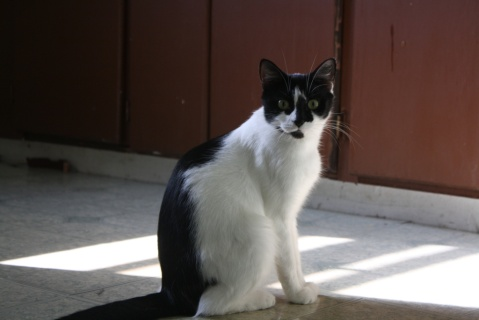Cat: (50, 47, 364, 320)
